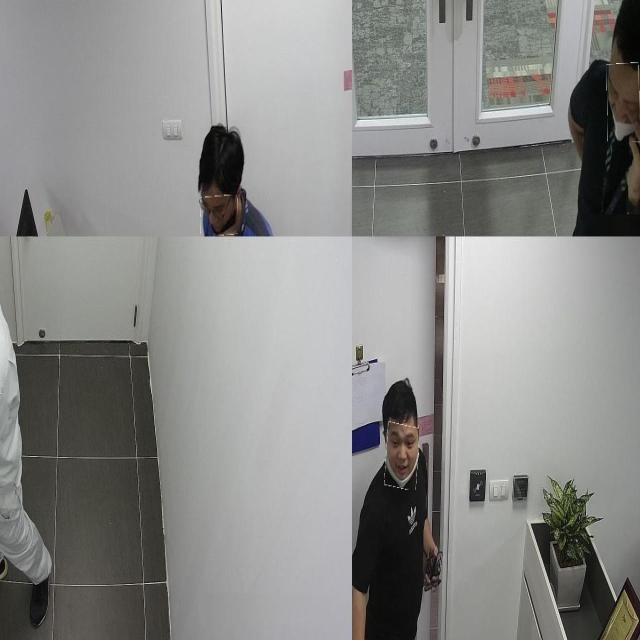hairnet: (607, 62, 640, 142), (386, 423, 418, 490), (200, 196, 238, 237)
